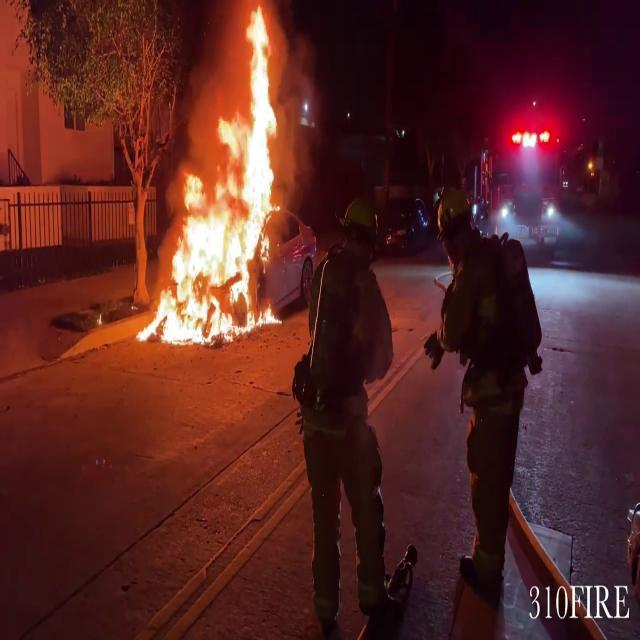Fire: (143, 4, 290, 344)
